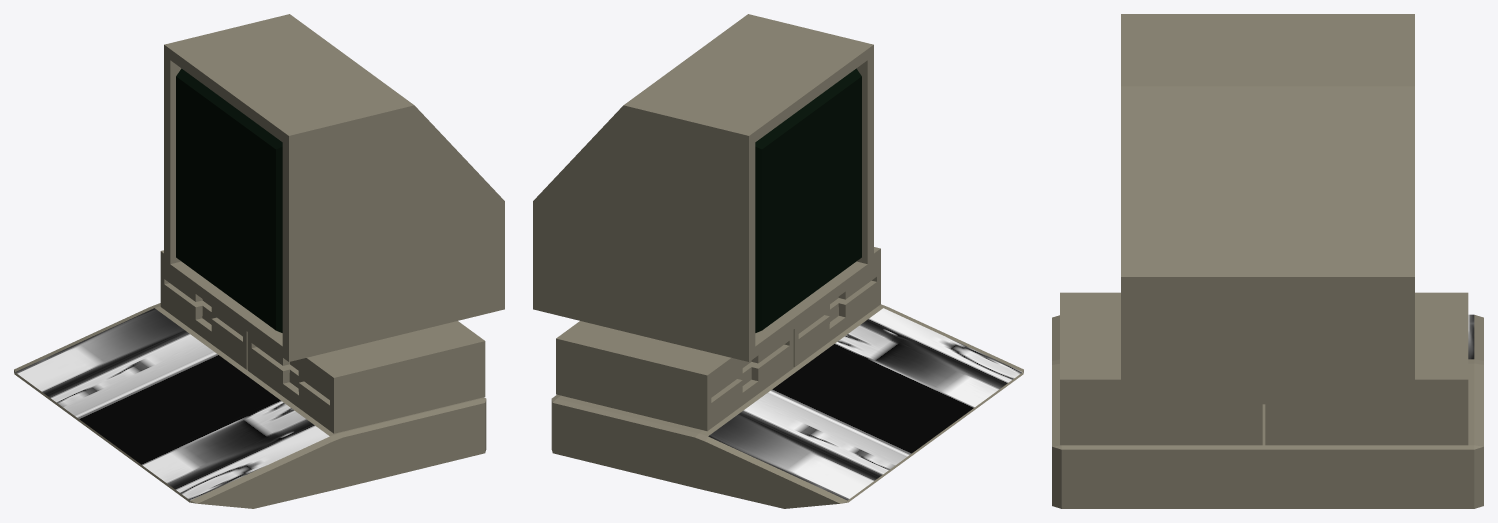
File: Computer.fbx
3 views of the same model, side by side, from view 1: azimuth 30°, elevation 25°; view 2: azimuth 150°, elevation 25°; view 3: azimuth 270°, elevation 25° (orthographic). The views are drawn at different scales.
Visible parts, largest first — view 1: Computer; view 2: Computer; view 3: Computer.
Boxes of the visible parts, x1,y1,x2,y2 form: Computer: (14,14,504,508); Computer: (533,14,1023,508); Computer: (1052,14,1483,508).
Size of the model in its own units: 32.16 by 30.46 by 30.
